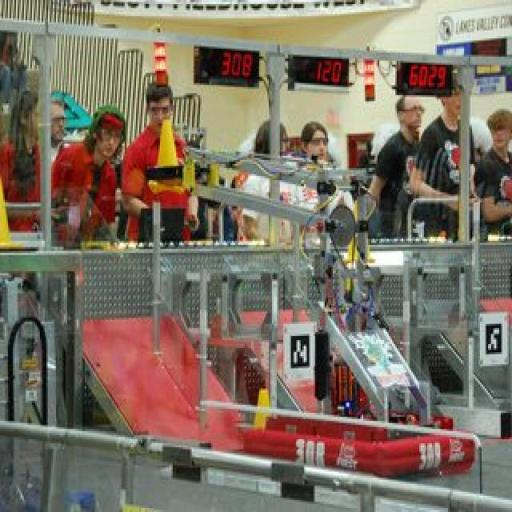robot: (141, 114, 478, 480)
